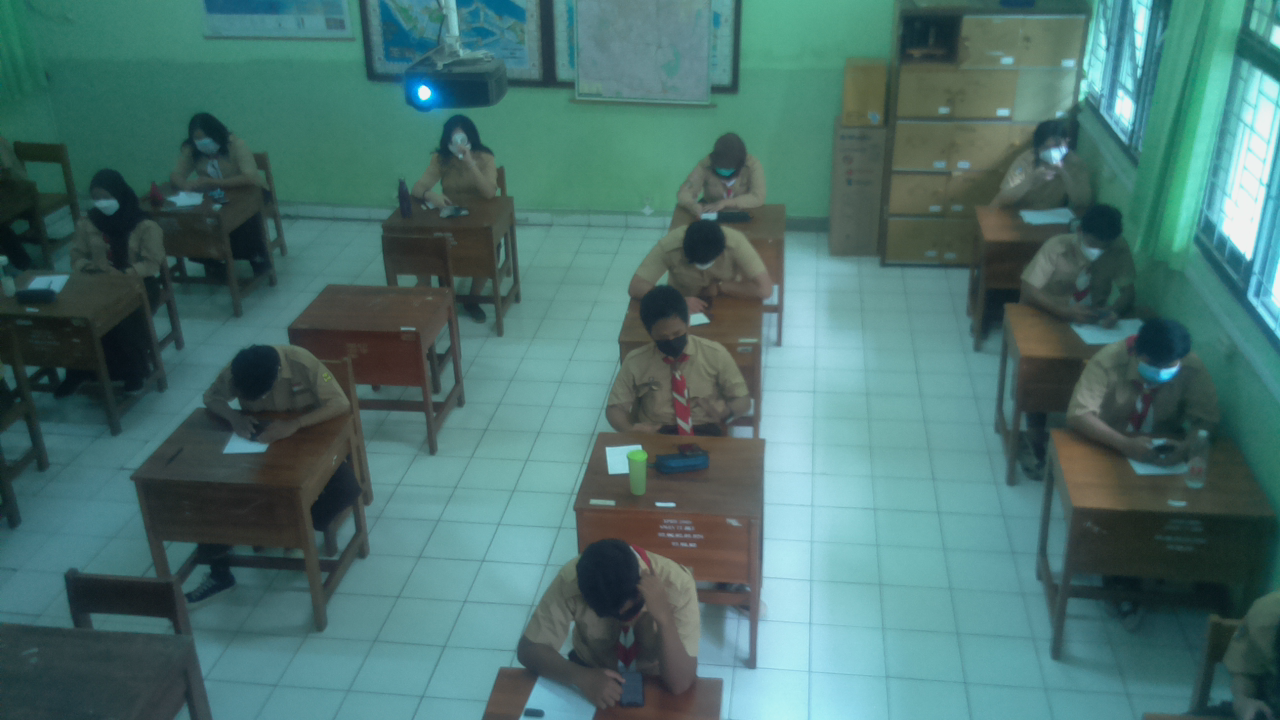Student: (535, 541, 695, 681), (1087, 319, 1217, 441), (623, 291, 737, 426), (1039, 203, 1135, 312), (75, 171, 167, 273), (211, 339, 328, 415), (1001, 117, 1093, 209), (655, 219, 755, 300), (419, 119, 498, 208), (179, 113, 259, 194), (679, 135, 766, 208)
